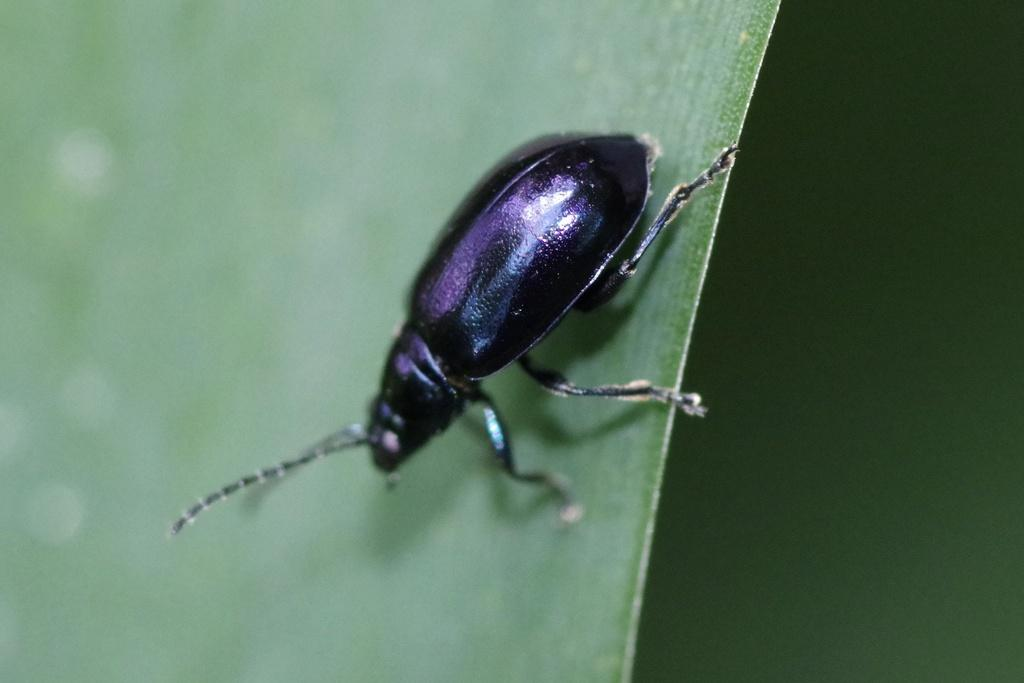flea_beetle: (136, 63, 827, 613)
